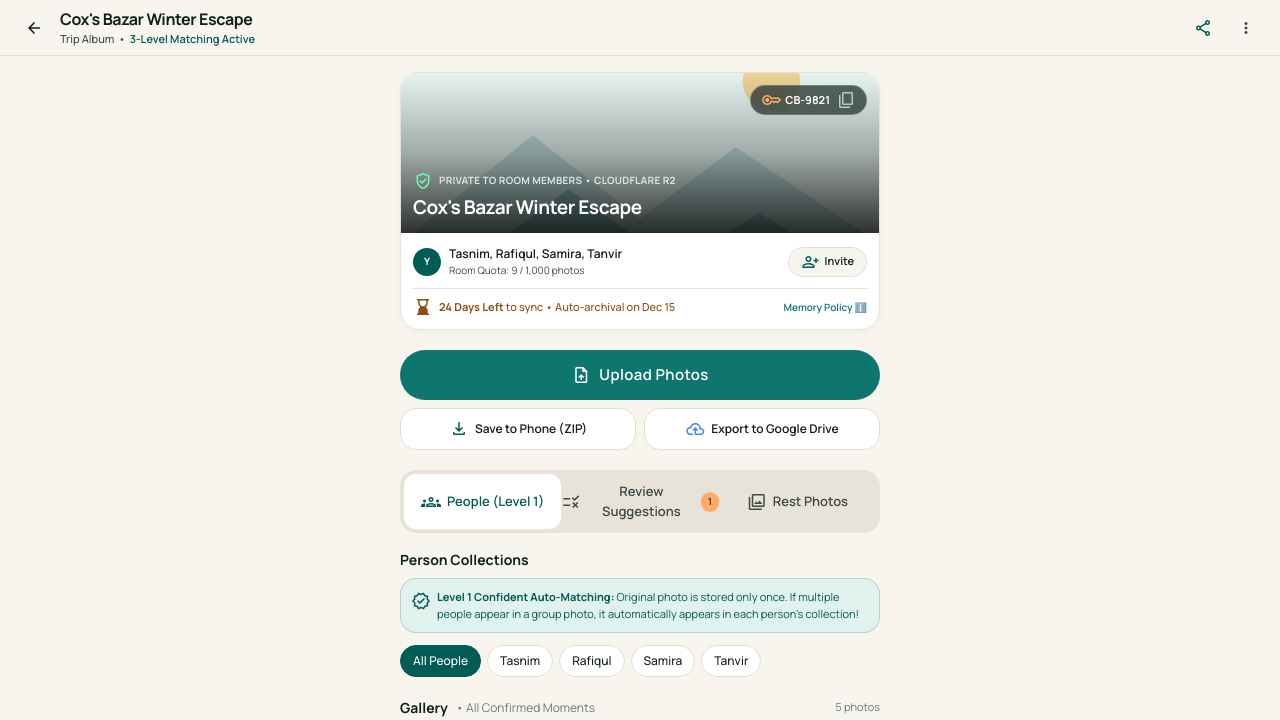
Scenario: Three-Level Photo Matching & Grouping System › Level 2: Renders Review Suggestions with candidate people and allows explicit A -> B correction
The width and height of the screenshot is (1280, 720).
// Switch to Review Suggestions tab
Click the text "Review Suggestions".
click(641, 501)  # box [602,482,681,520]
(page scrolled)
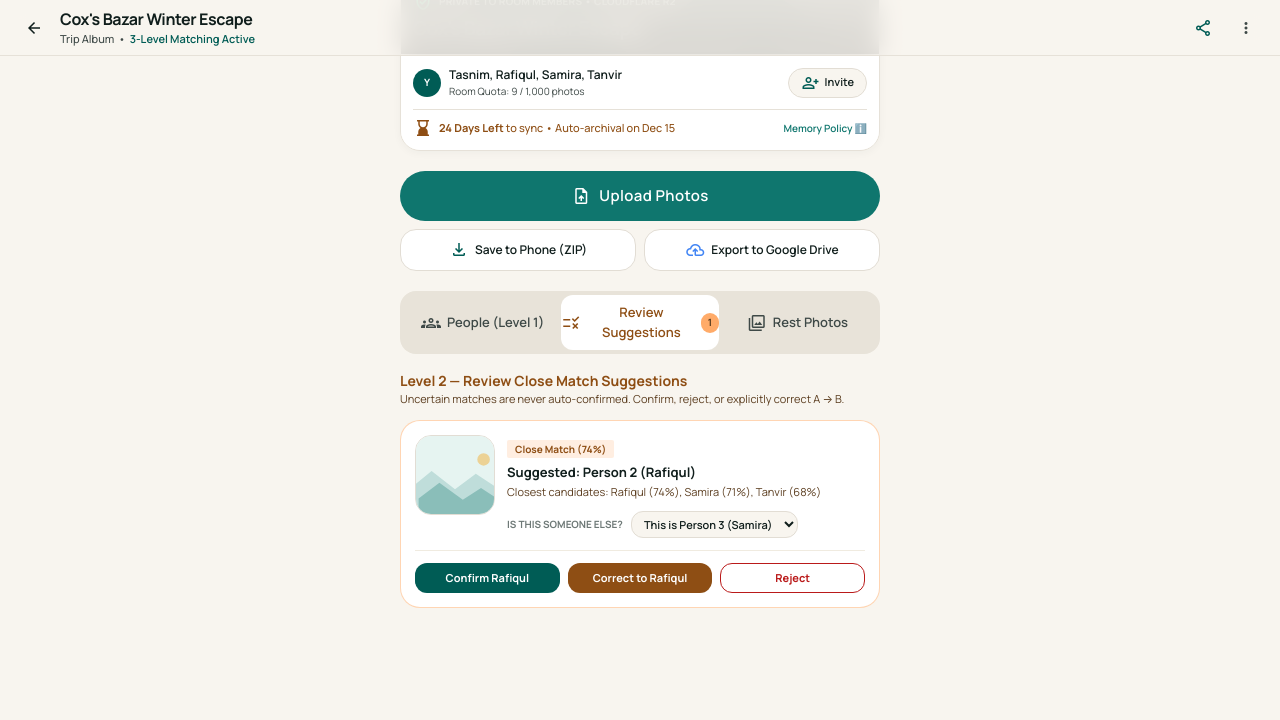
expect the heading "Suggested: Person 2 (Rafiqul)" is shown: met, box [507,462,696,480]
expect the text "Closest candidates: Rafiqul" is shown: met, box [507,484,865,500]
Click the button "Correct to Rafiqul".
click(640, 578)  # box [568,562,712,593]
(page scrolled)
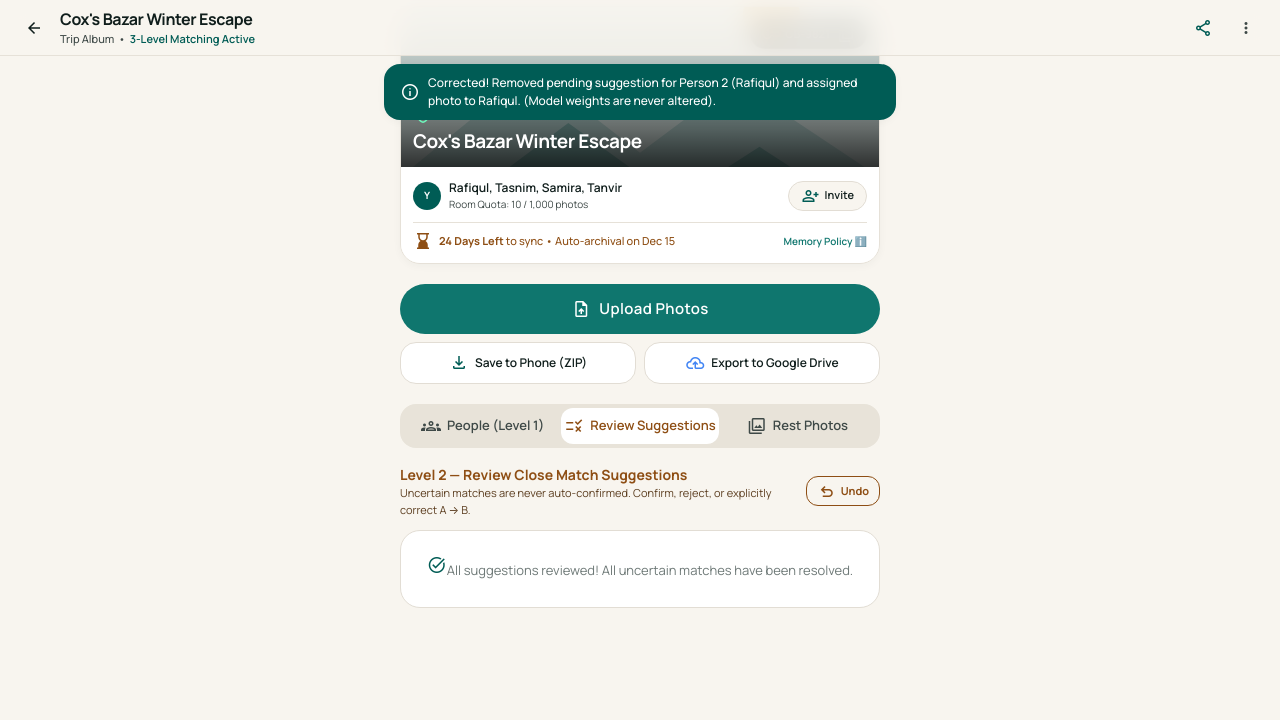
expect the text "Corrected! Removed pending suggestion" is shown: met, box [428,74,857,109]
expect the text "All suggestions reviewed!" is shown: met, box [447,561,853,579]
